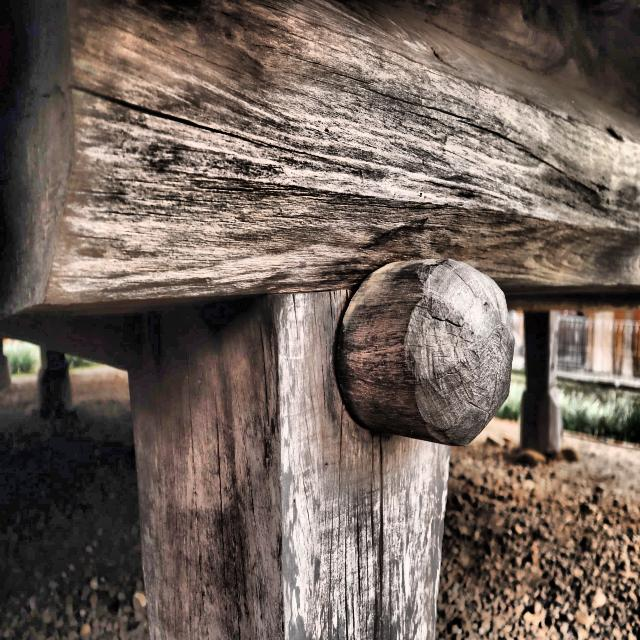column: (132, 287, 452, 640), (521, 312, 563, 450)
